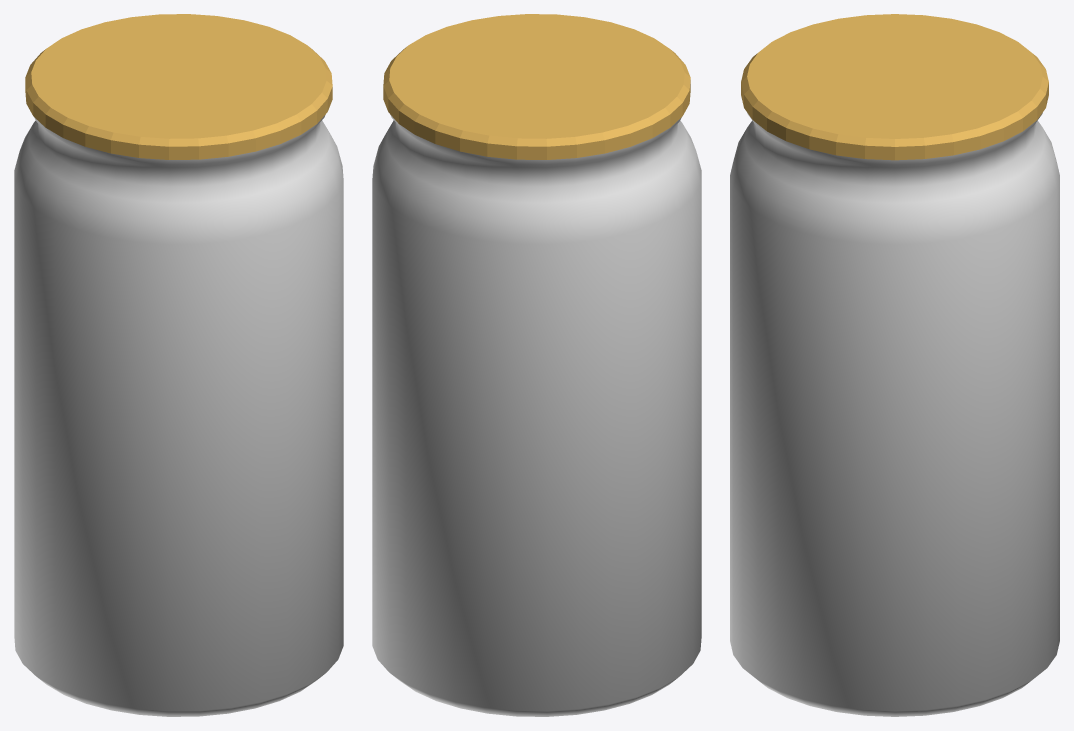
3 views of the same model, side by side, from view 1: azimuth 30°, elevation 25°; view 2: azimuth 150°, elevation 25°; view 3: azimuth 270°, elevation 25° (orthographic).
Parts seen in each view (by area): view 1: glass, metal; view 2: glass, metal; view 3: glass, metal.
Part boxes in pixels (<box>): glass: <box>14,115,343,716</box>; metal: <box>25,14,332,159</box>; glass: <box>372,115,701,716</box>; metal: <box>383,14,690,159</box>; glass: <box>730,113,1059,716</box>; metal: <box>741,14,1048,160</box>.
Size of the model in its own units: 433 by 835 by 433.
